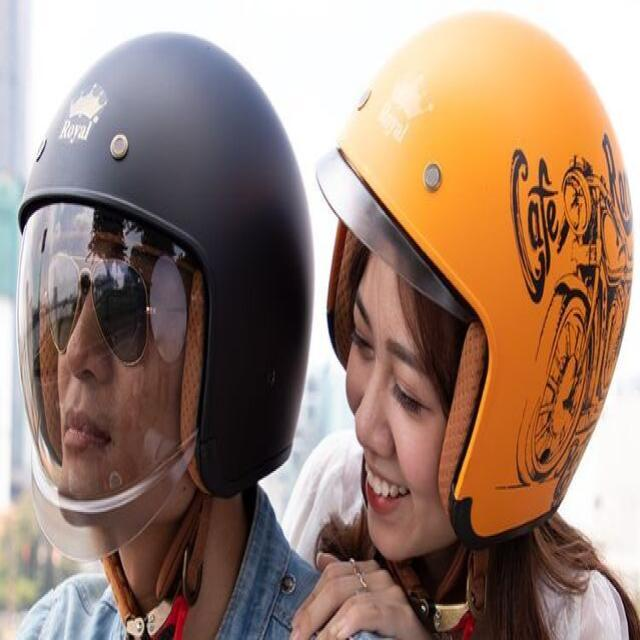helmet: (313, 7, 635, 549), (14, 28, 317, 564)
